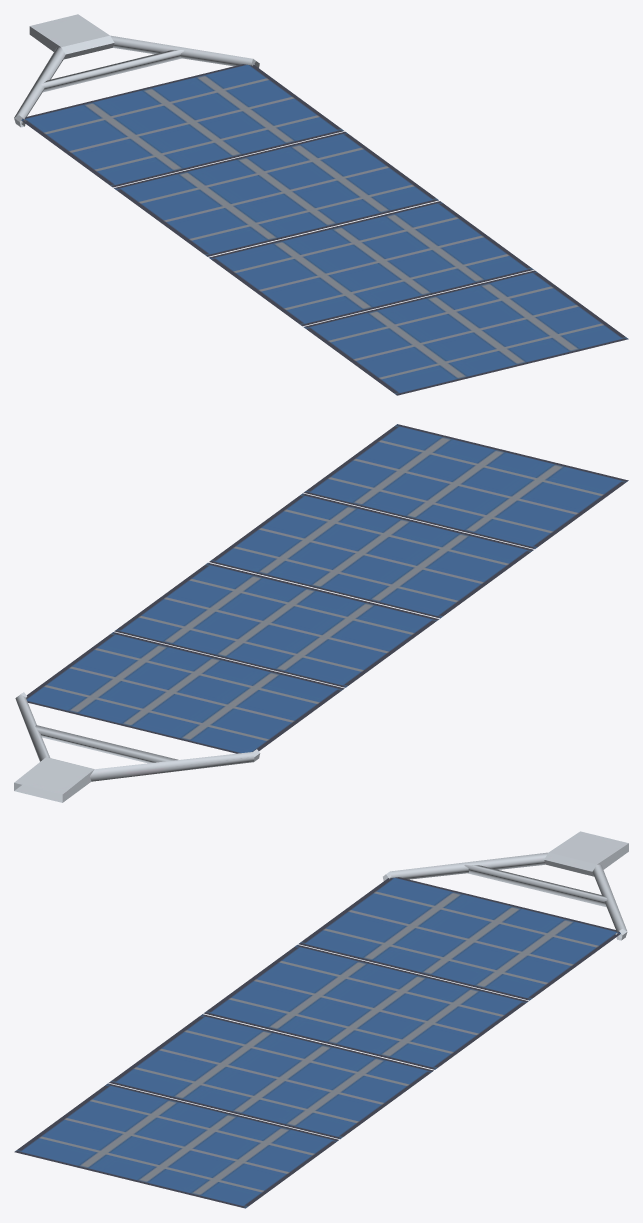
File: TianGongNo1-DianChiBan.FBX
The picture shows the model from 3 angles, top to bottom: view 1: azimuth 30°, elevation 25°; view 2: azimuth 150°, elevation 25°; view 3: azimuth 330°, elevation 25°; orthographic projection.
Parts seen in each view (by area): view 1: TianGongNo1-DianChiBan; view 2: TianGongNo1-DianChiBan; view 3: TianGongNo1-DianChiBan.
Boxes of the visible parts, x1,y1,x2,y2 form: TianGongNo1-DianChiBan: (14,14,628,395); TianGongNo1-DianChiBan: (14,424,628,802); TianGongNo1-DianChiBan: (14,831,628,1208).
Bounding box in the file's own units: 84.8 × 3.66 × 286.
